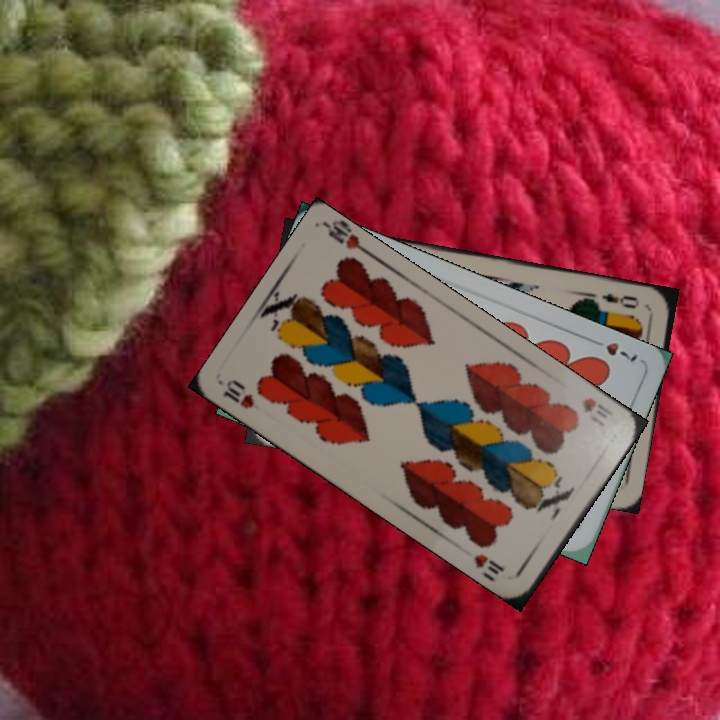EO: (598, 289, 642, 311)
H10: (218, 375, 257, 412), (578, 393, 616, 429)
H7: (585, 334, 640, 364)
